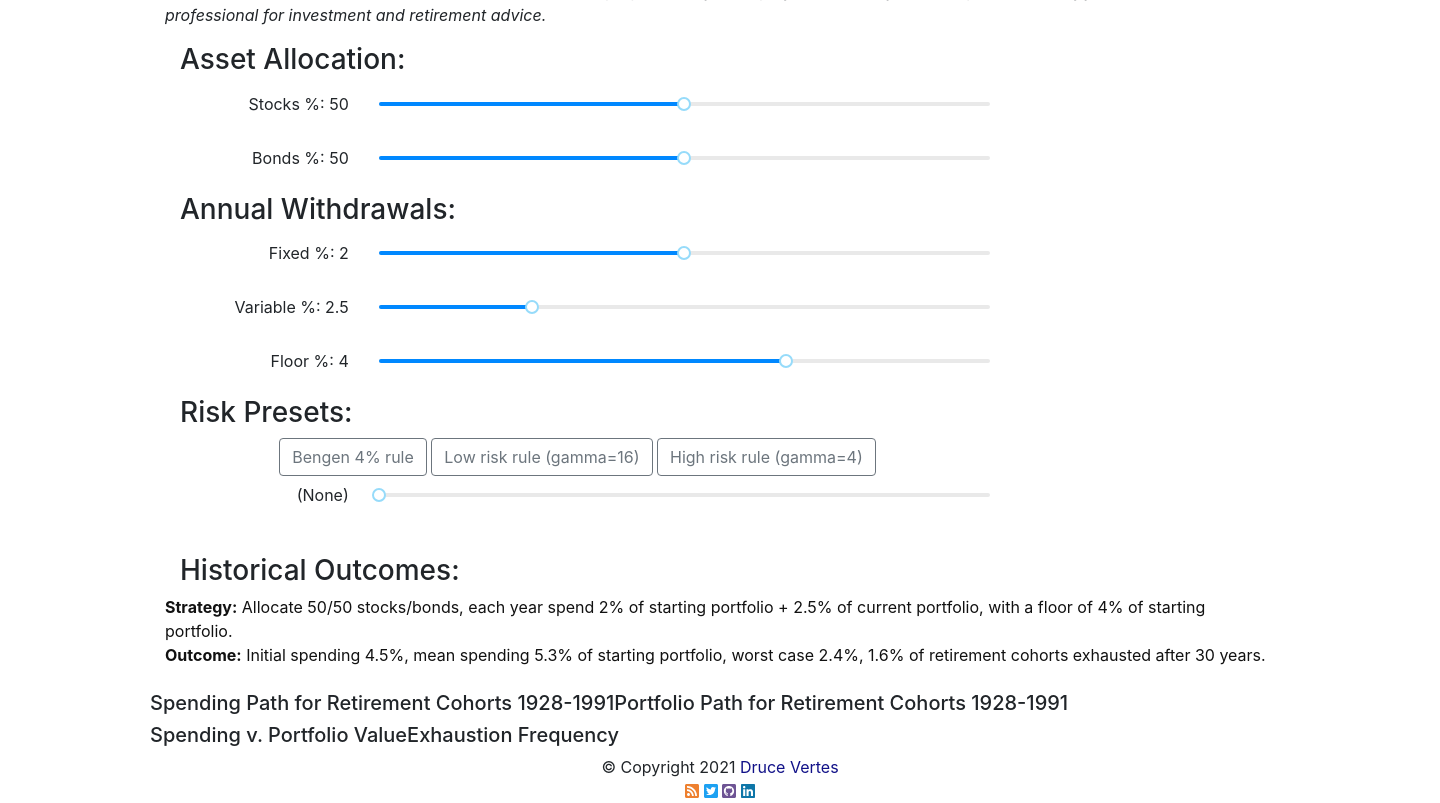
Scenario: Click Button 1 (Bengen)
(page scrolled)
Click the button with test id "button1". click: (353, 457)
box: 279,438 -> 427,476
(page scrolled)
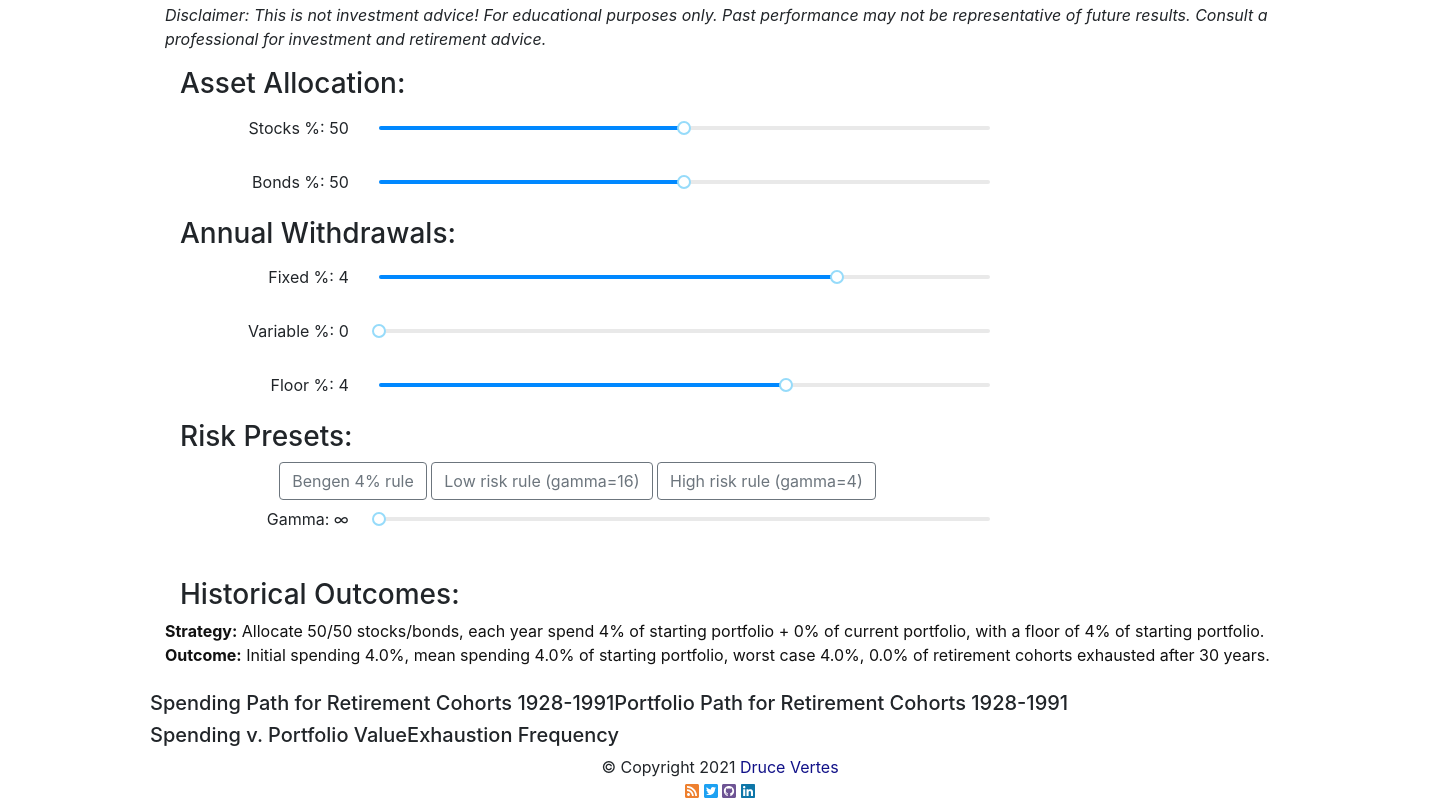
Expected: the label with test id "withdrawal_fixed_label" reads "Fixed %: 4", 268,267 -> 349,287
Expected: the label with test id "withdrawal_variable_label" reads "Variable %: 0", 248,321 -> 349,341
Expected: the text with test id "start_spend" reads "4.0", 365,645 -> 389,665
